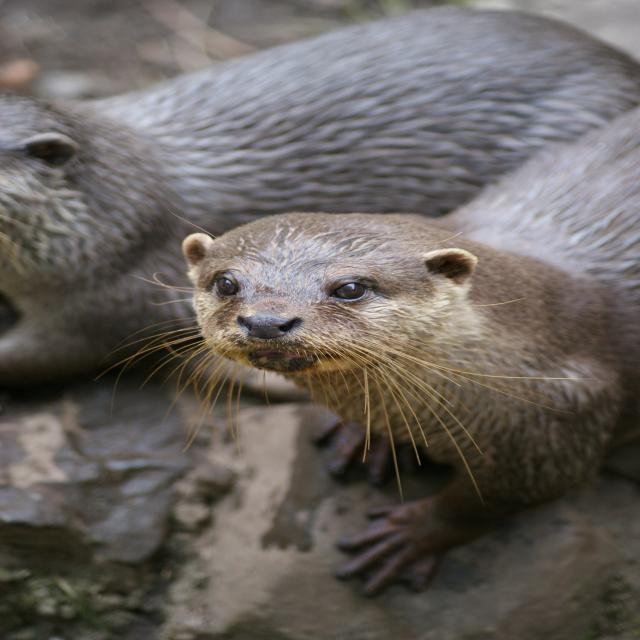otter: (189, 210, 640, 480)
